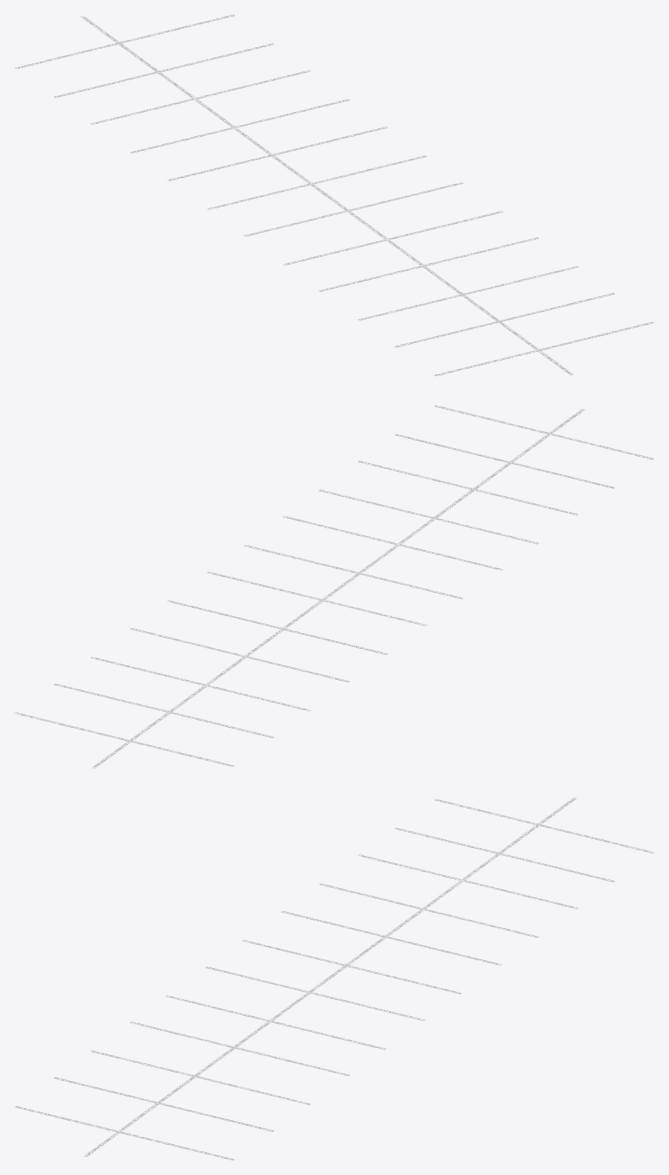
The model's file is PARKING LOT BIG.fbx.
3 views of the same model, one above another, from view 1: azimuth 30°, elevation 25°; view 2: azimuth 150°, elevation 25°; view 3: azimuth 330°, elevation 25° (orthographic).
Parts seen in each view (by area): view 1: PARKING_LOT_BIG; view 2: PARKING_LOT_BIG; view 3: PARKING_LOT_BIG.
Part boxes in pixels (box(x1,y1,x2,y2)): PARKING_LOT_BIG: box(14, 14, 654, 376); PARKING_LOT_BIG: box(14, 405, 654, 768); PARKING_LOT_BIG: box(14, 797, 654, 1160).
Bounding box in the file's own units: 1490 × 0.4001 × 5776.
1 material, 1 textured.
